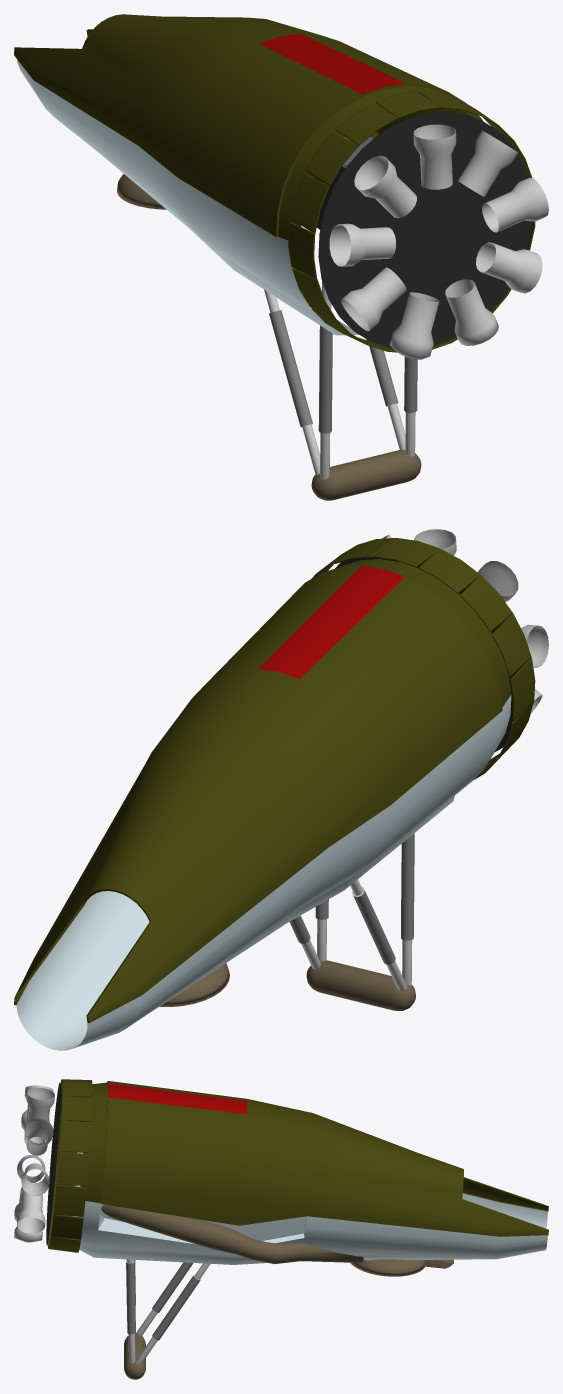
The model's file is Motor.obj.
3 renders of one model, top to bottom at view 1: azimuth 30°, elevation 25°; view 2: azimuth 150°, elevation 25°; view 3: azimuth 270°, elevation 25°, orthographic. The views are drawn at different scales.
Parts seen in each view (by area): view 1: Motor:pasted__polySurface288; view 2: Motor:pasted__polySurface288; view 3: Motor:pasted__polySurface288.
Part boxes in pixels (<box>): Motor:pasted__polySurface288: <box>14,14,548,500</box>; Motor:pasted__polySurface288: <box>14,529,548,1050</box>; Motor:pasted__polySurface288: <box>14,1079,548,1379</box>.
Size of the model in its own units: 0.4804 by 0.8107 by 1.41.
